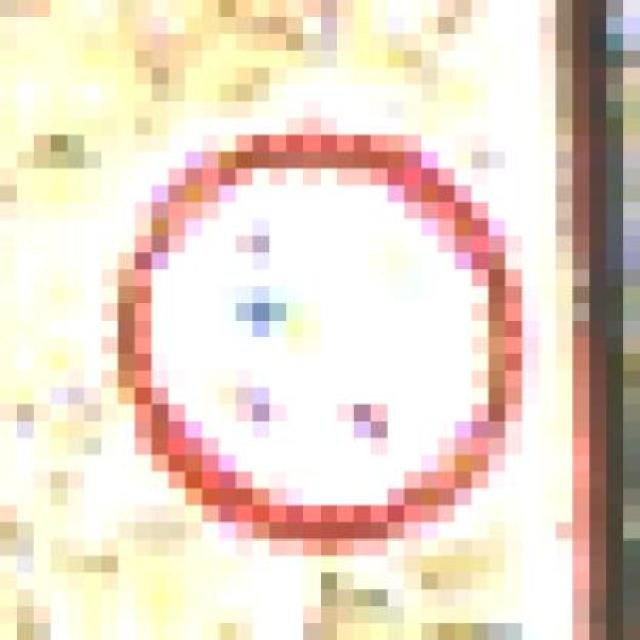50 mph speed limit: (67, 118, 573, 556)
